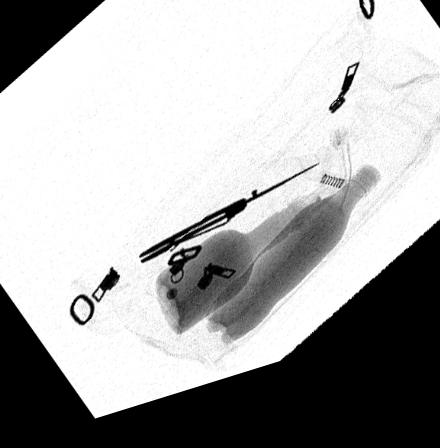Knife: (137, 180, 324, 273)
